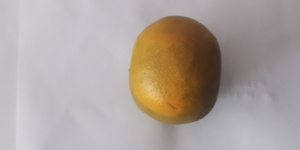BAD: (128, 14, 224, 127)
